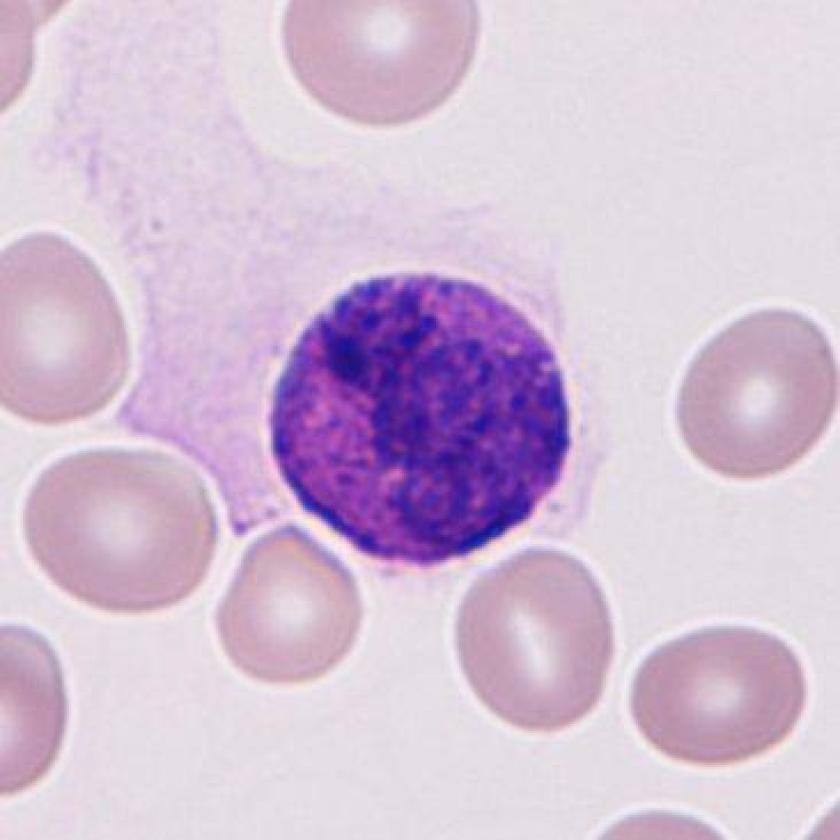basophil: (256, 268, 584, 573)
